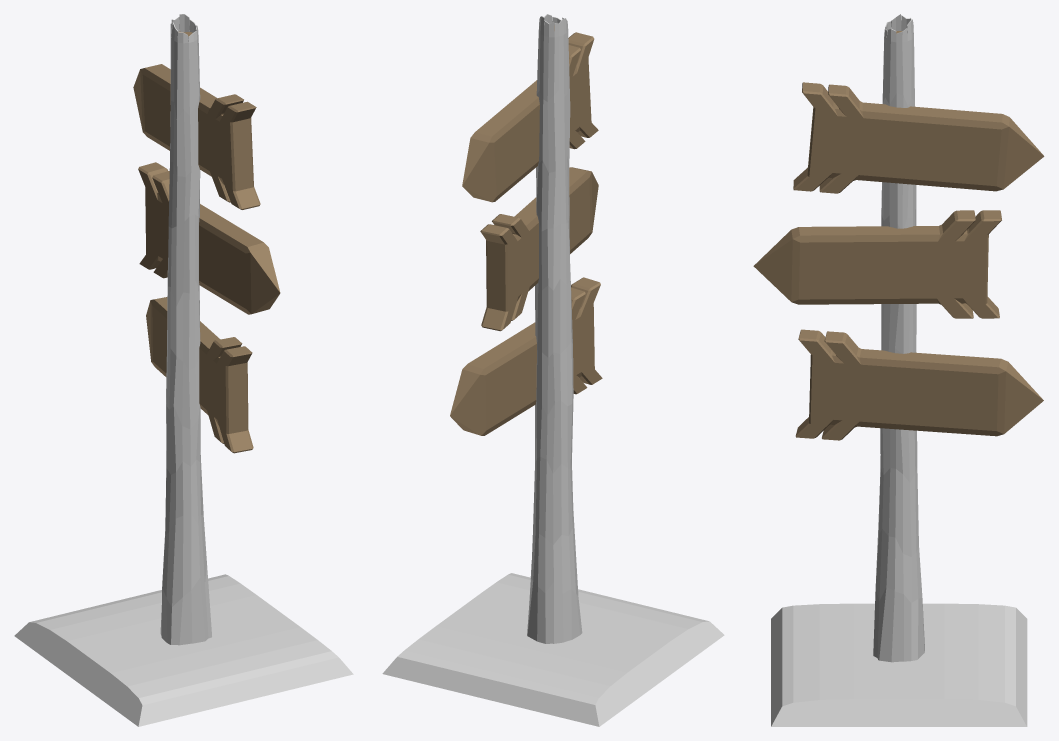
The model's file is PosteDireccion.fbx.
3 views of the same model, side by side, from view 1: azimuth 30°, elevation 25°; view 2: azimuth 150°, elevation 25°; view 3: azimuth 270°, elevation 25° (orthographic). The views are drawn at different scales.
Visible parts, largest first — view 1: Cube, Cylinder.001, Cube.002, Cube.001, Cube.003; view 2: Cube, Cylinder.001, Cube.003, Cube.001, Cube.002; view 3: Cube, Cube.001, Cube.002, Cube.003, Cylinder.001.
Part boxes in pixels (x1,y1,x2,y2): Cube: (14,574,353,726); Cylinder.001: (160,14,211,645); Cube.002: (138,162,280,314); Cube.001: (133,64,260,209); Cube.003: (146,297,253,453); Cube: (382,573,724,726); Cylinder.001: (527,14,582,643); Cube.003: (450,277,602,435); Cube.001: (462,32,598,202); Cube.002: (480,167,598,331); Cube: (771,603,1027,726); Cube.001: (793,82,1044,193); Cube.002: (753,210,1001,318); Cube.003: (795,329,1043,440); Cylinder.001: (873,14,924,662).
Bounding box in the file's own units: 392 × 1106 × 446.
